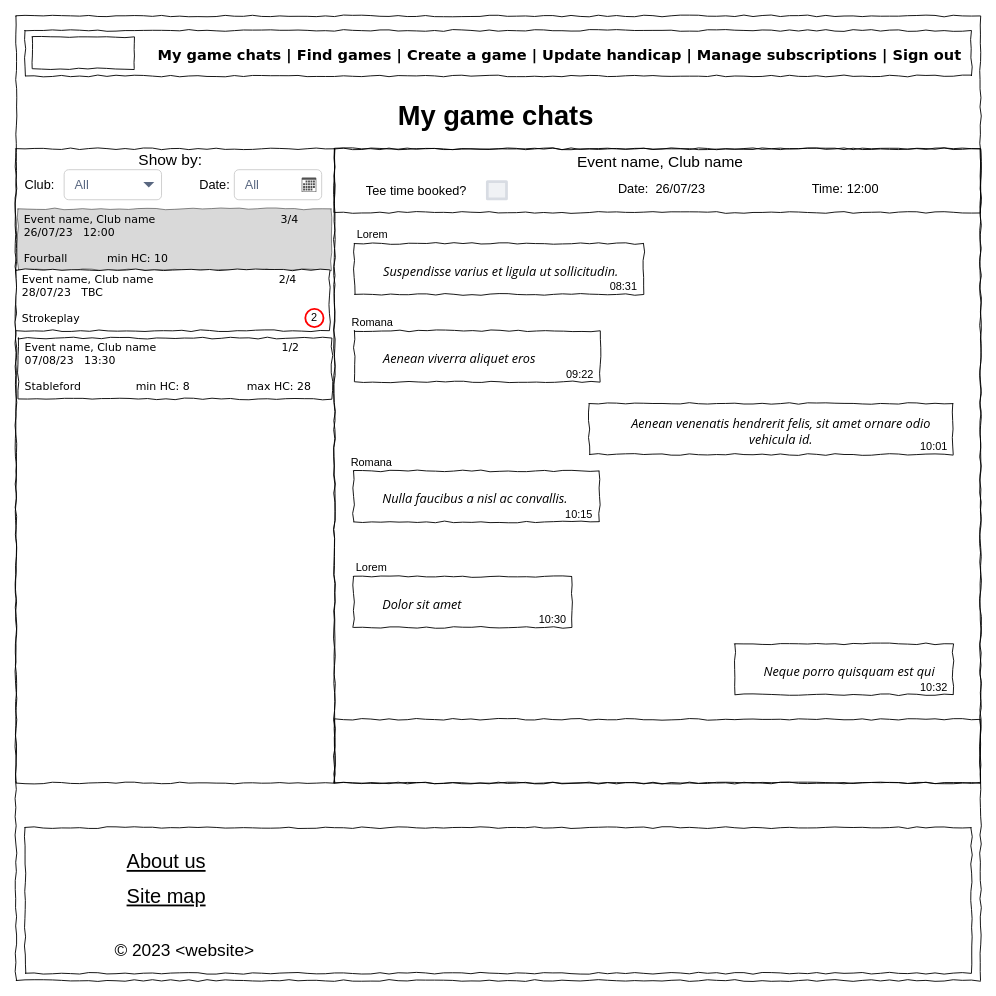
Image size: 996x996. Some labels were removed from this diagram. Here are the shapes that lost their labels. From the top down, the centre of each, then its label:
the point at 82,52: LOGO
the point at 657,750: Type a message
